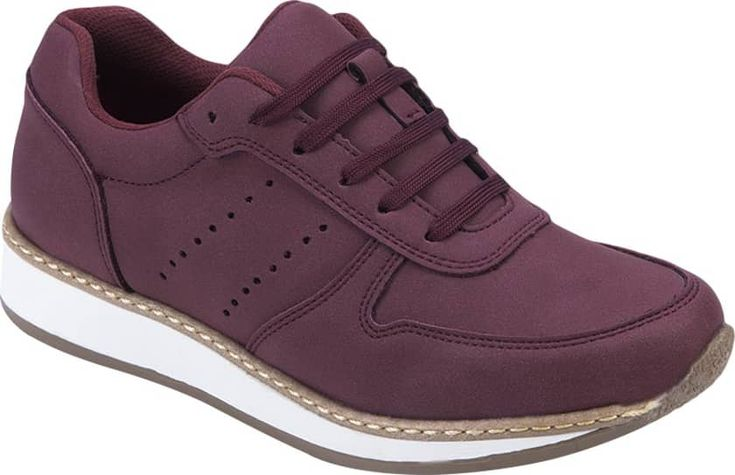gamuza: (11, 1, 719, 418)
